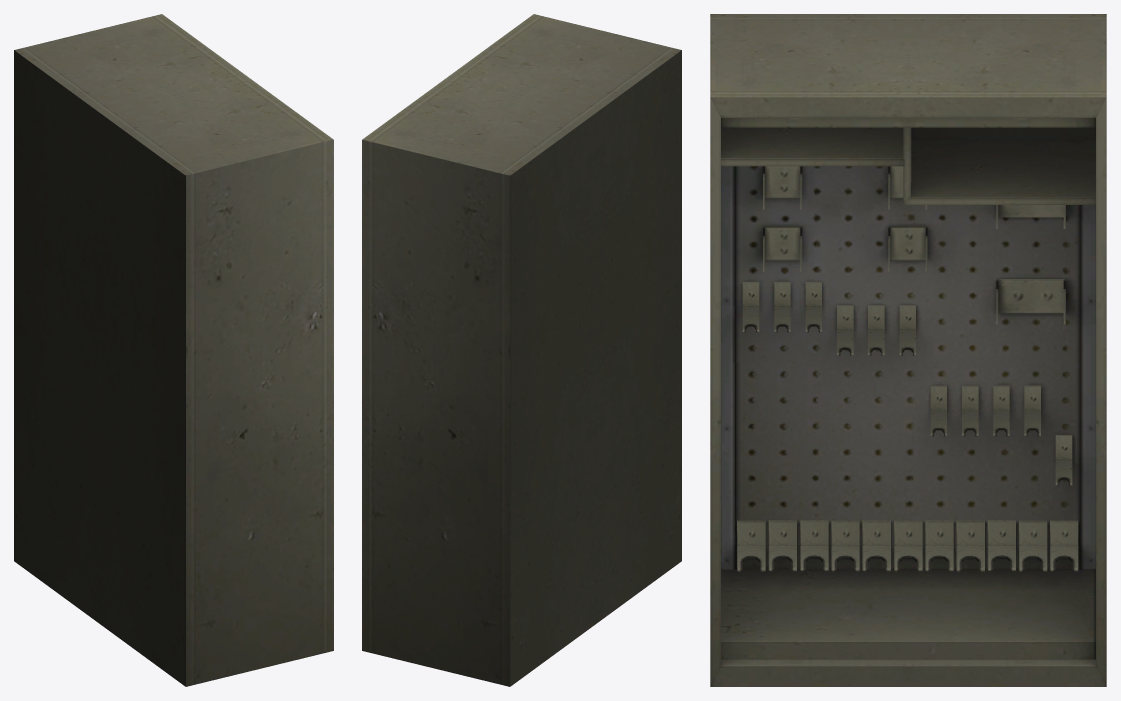
File: guncabinet01_main.glb
3 renders of one model, left to right at view 1: azimuth 30°, elevation 25°; view 2: azimuth 150°, elevation 25°; view 3: azimuth 270°, elevation 25°, orthographic. The views are drawn at different scales.
Parts seen in each view (by area): view 1: guncabinet01_main; view 2: guncabinet01_main; view 3: guncabinet01_main.
Part boxes in pixels (x1,y1,x2,y2): guncabinet01_main: [14, 14, 333, 686]; guncabinet01_main: [362, 14, 681, 686]; guncabinet01_main: [710, 14, 1106, 686].
Bounding box in the file's own units: 0.4562 × 1.51 × 0.9167.
Materials: 1 (1 with a texture image).
